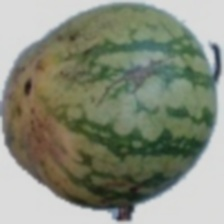watermelon: (20, 36, 182, 187)
